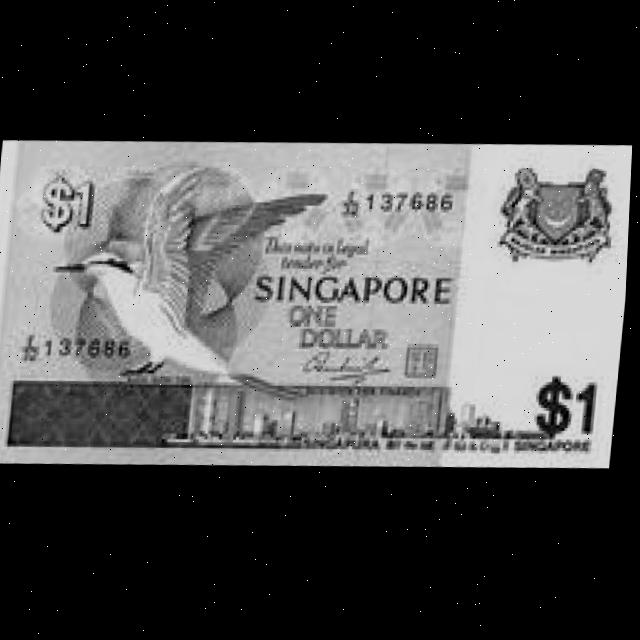banknote: (0, 115, 635, 496), (279, 300, 401, 368), (532, 371, 612, 458), (37, 167, 110, 246)
